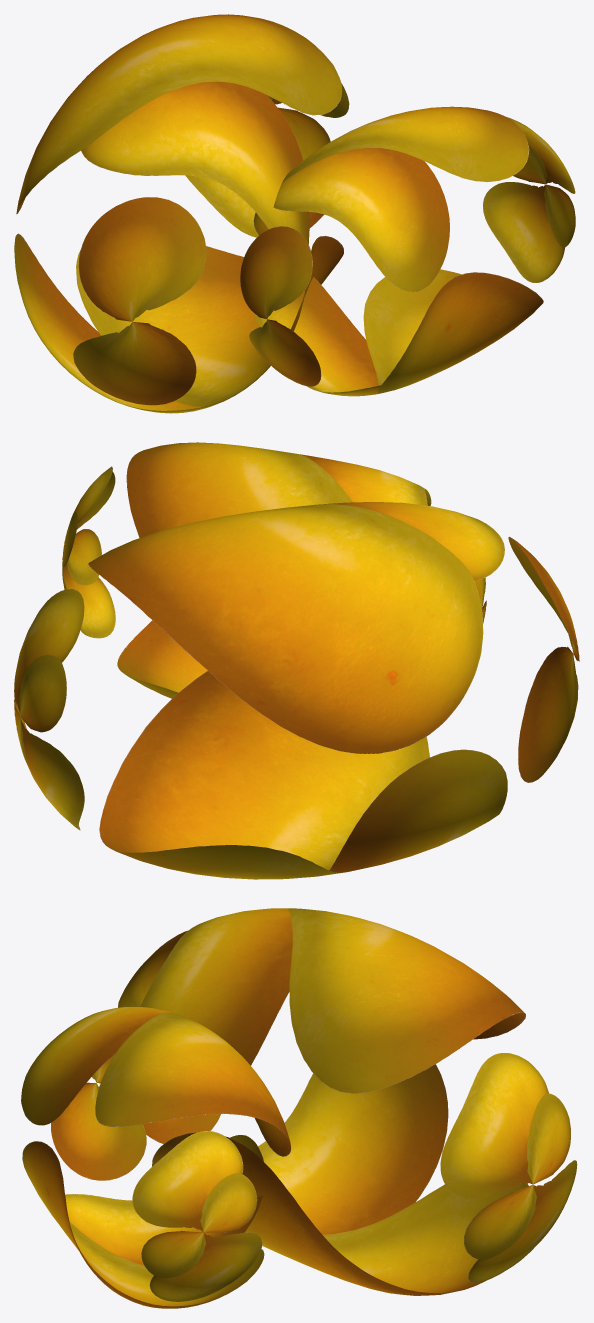
Rendered from Potato.fbx.
3 renders of one model, top to bottom at view 1: azimuth 30°, elevation 25°; view 2: azimuth 150°, elevation 25°; view 3: azimuth 270°, elevation 25°, orthographic. The views are drawn at different scales.
Visible parts, largest first — view 1: Potato; view 2: Potato; view 3: Potato.
Boxes of the visible parts, left/top/right/bottom form: Potato: left=14, top=14, right=575, bottom=413; Potato: left=14, top=442, right=579, bottom=879; Potato: left=21, top=908, right=577, bottom=1308.
Size of the model in its own units: 64.77 by 40.85 by 63.8.
